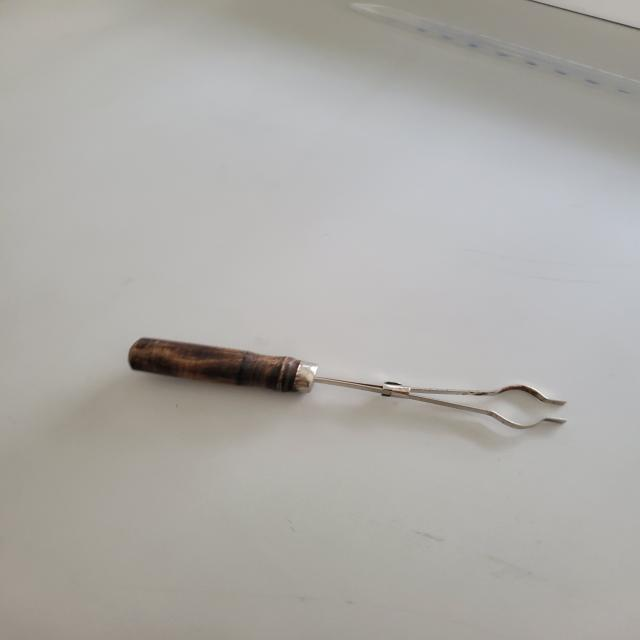TestTube_Holder: (85, 310, 589, 476)
